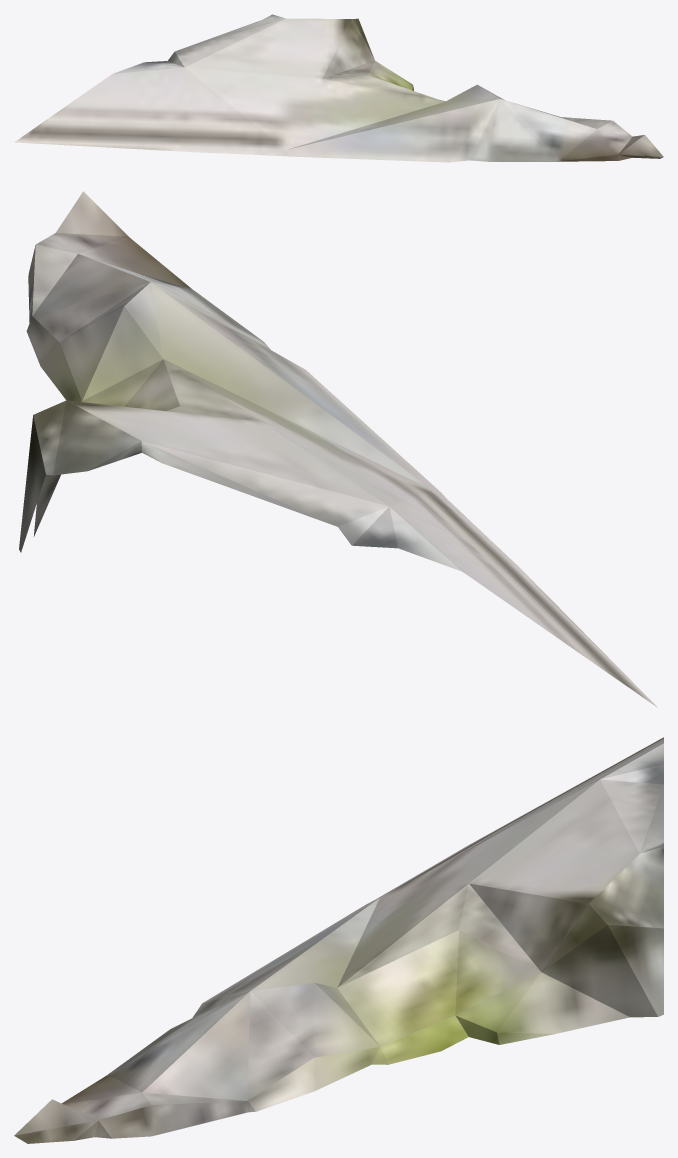
The picture shows the model from 3 angles, top to bottom: view 1: azimuth 30°, elevation 25°; view 2: azimuth 150°, elevation 25°; view 3: azimuth 270°, elevation 25°; orthographic projection. The views are drawn at different scales.
Size of the model in its own units: 2.44 by 0.3238 by 1.65.
1 material, 1 textured.
